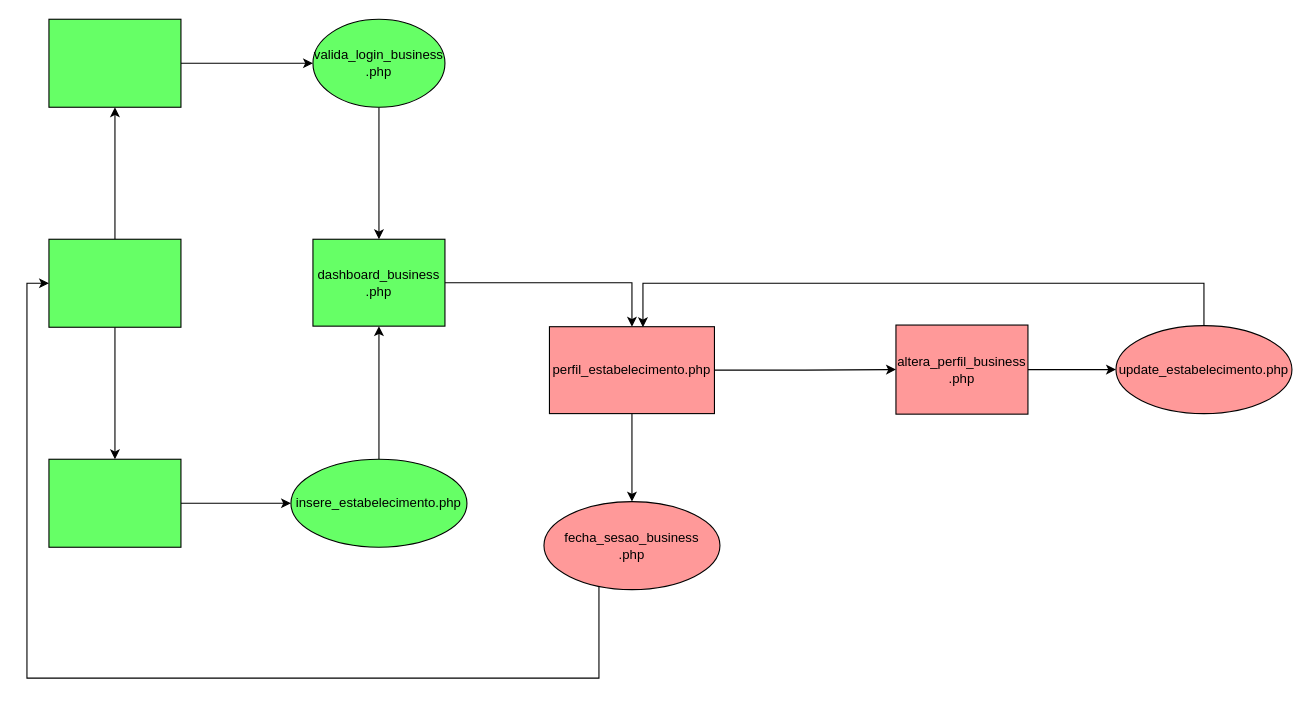
Some shapes in this 1311 by 706 pixel diagram are drawn without their labels. The centre of each missing label's shape, as x and y in pixels:
cadastre_business .php: the point at 114,502
entre_business.php: the point at 114,62
index.php: the point at 114,282
